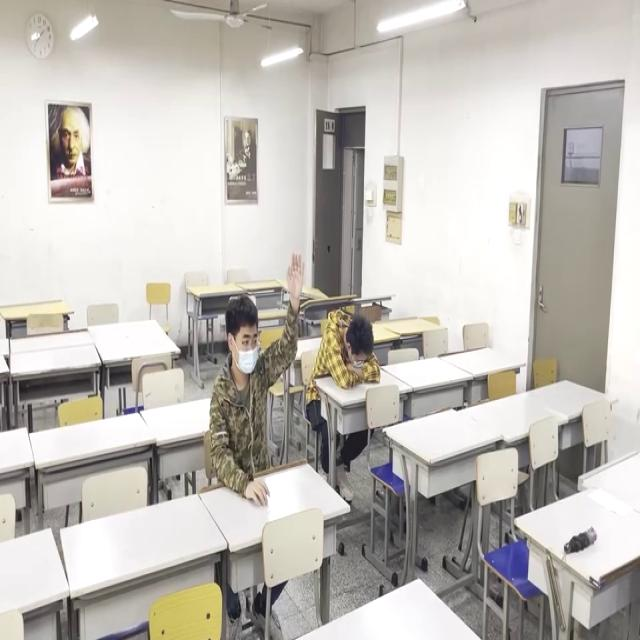sleep: (308, 308, 384, 398)
